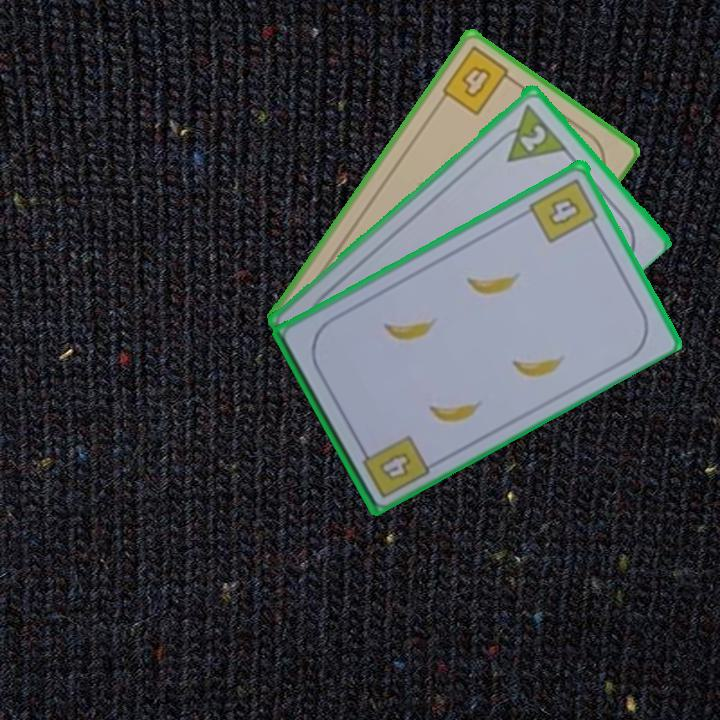2p: (516, 120, 549, 154)
4b: (438, 42, 519, 118), (526, 174, 603, 245), (379, 448, 415, 483)
